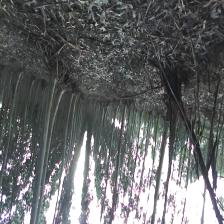trunk: (32, 72, 64, 204), (153, 122, 169, 206), (114, 105, 126, 194)
